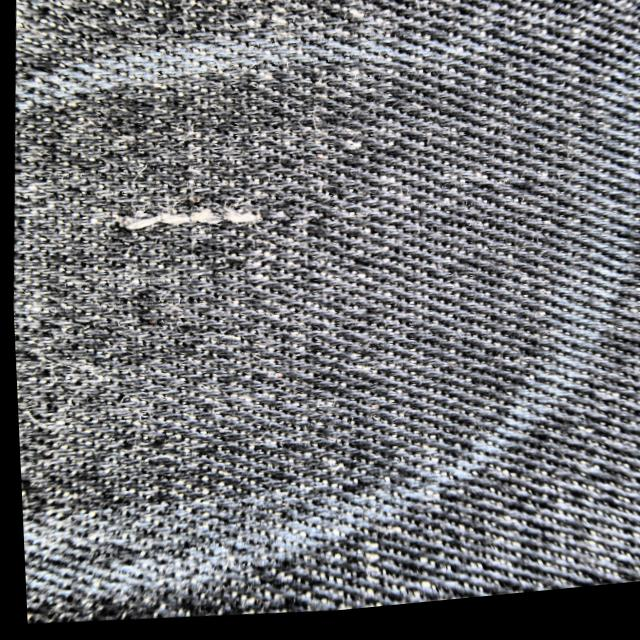Stitch: (105, 195, 253, 253)
